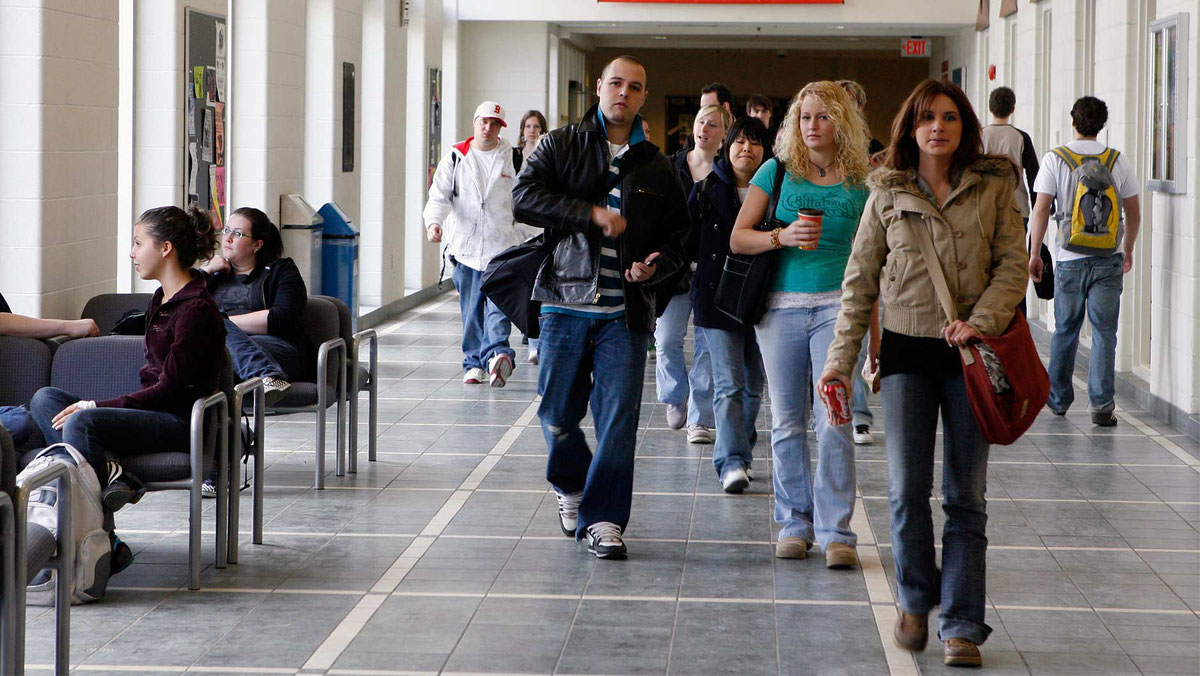students: (814, 78, 1053, 666), (511, 57, 681, 561), (36, 205, 227, 601), (728, 80, 877, 571), (1031, 94, 1142, 428), (701, 117, 776, 488), (424, 101, 519, 386), (653, 107, 730, 442), (203, 208, 314, 395), (978, 86, 1040, 238), (514, 111, 552, 165), (744, 90, 776, 128), (697, 80, 732, 110)
